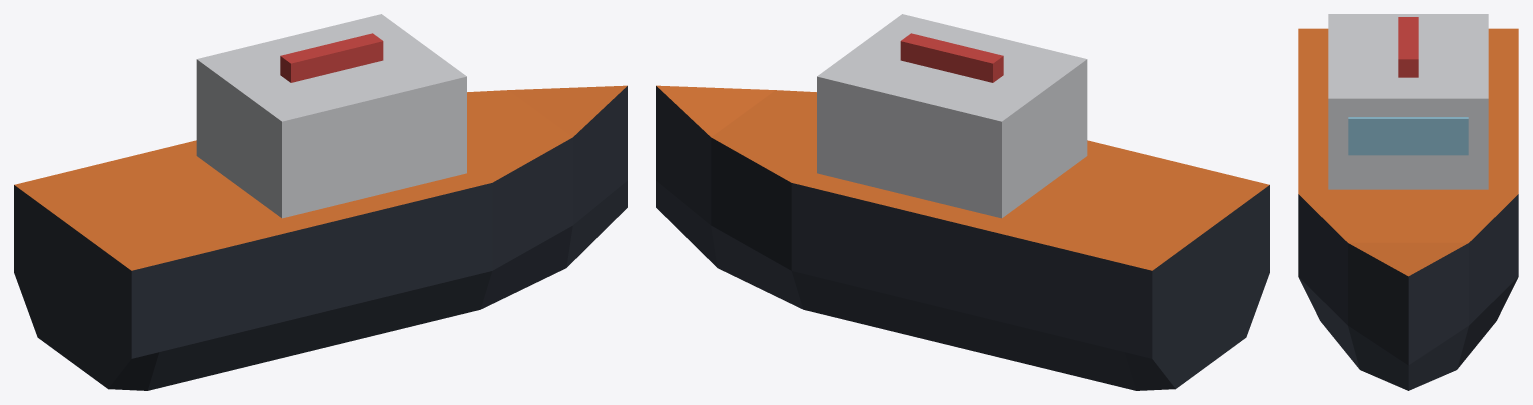
The model's file is pilot_boat.glb.
3 renders of one model, left to right at view 1: azimuth 30°, elevation 25°; view 2: azimuth 150°, elevation 25°; view 3: azimuth 270°, elevation 25°, orthographic. The views are drawn at different scales.
Parts seen in each view (by area): view 1: pilot_boat; view 2: pilot_boat; view 3: pilot_boat.
Boxes of the visible parts, bbox=[...] form: pilot_boat: bbox=[14, 14, 627, 390]; pilot_boat: bbox=[656, 14, 1269, 390]; pilot_boat: bbox=[1298, 14, 1518, 390].
Bounding box in the file's own units: 6 × 2.6 × 2.2.
